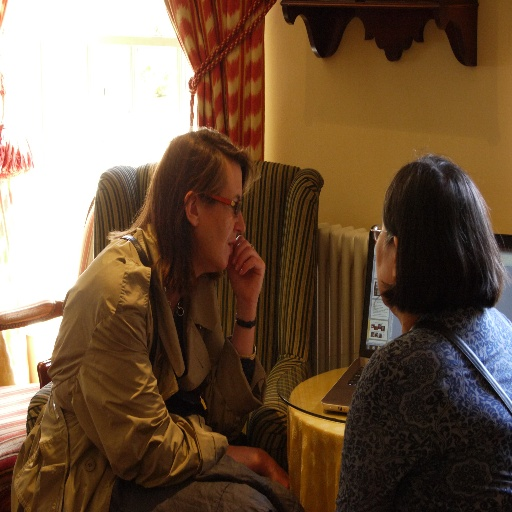hand: (229, 241, 265, 321), (253, 450, 292, 493)
